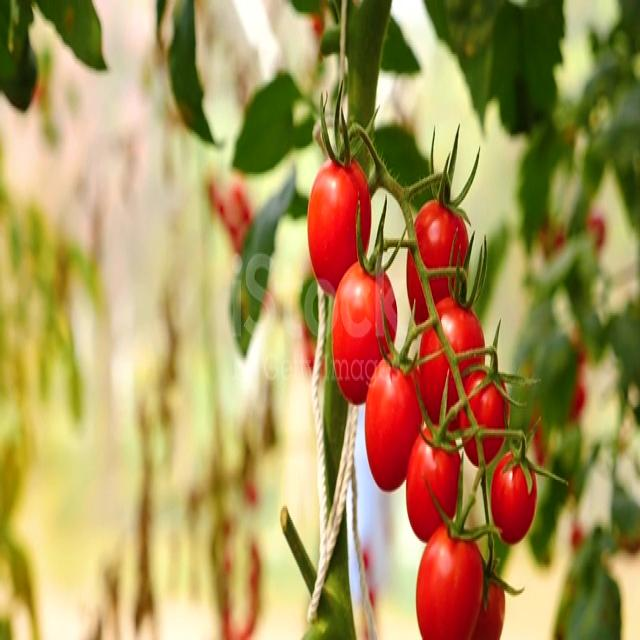tomato: (412, 297, 485, 432), (332, 263, 398, 403), (308, 159, 370, 295), (406, 202, 470, 324), (365, 359, 422, 491), (416, 524, 482, 638), (406, 435, 460, 540), (459, 368, 508, 463), (491, 452, 536, 542), (471, 583, 505, 640)
